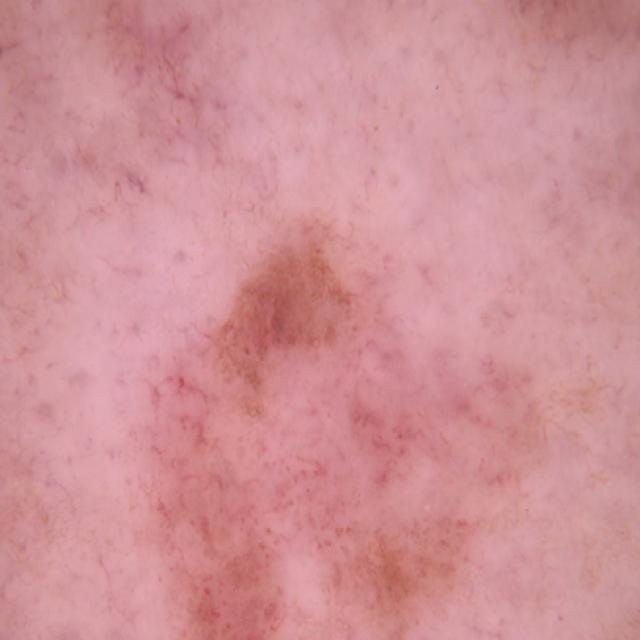Carcinoma: (114, 180, 577, 640)
